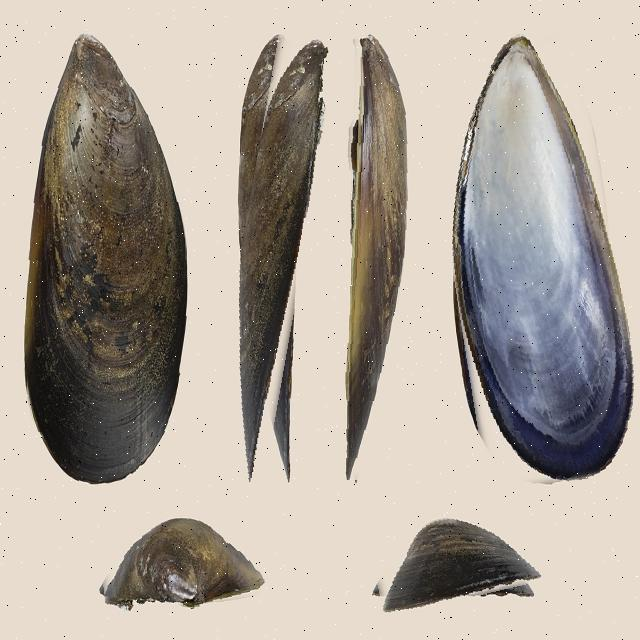Mytilus_galloprovincialis: (436, 29, 636, 489), (23, 33, 189, 485), (221, 32, 322, 483), (339, 34, 411, 481), (369, 508, 538, 608), (99, 515, 264, 612)
